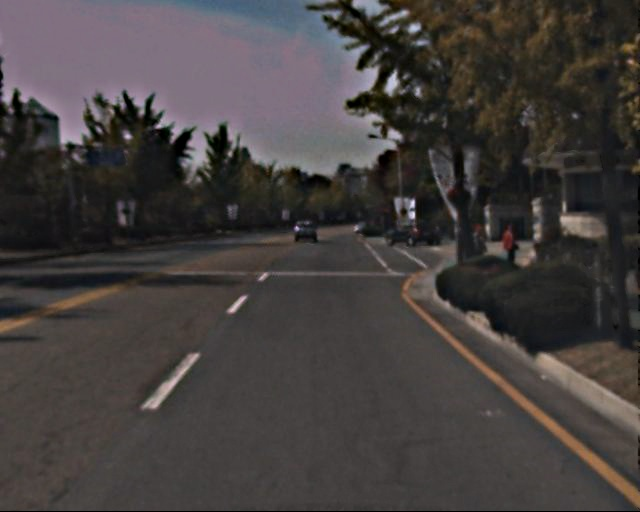person: (499, 221, 521, 275)
